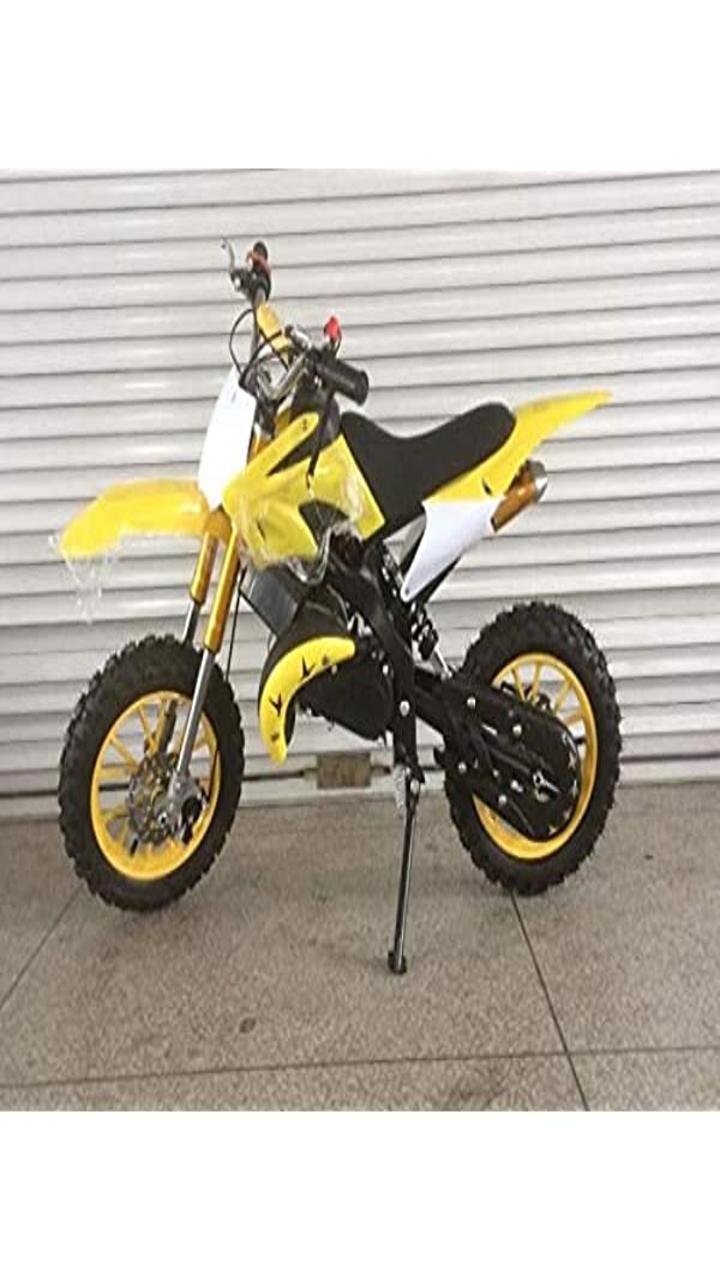motorcycle: (32, 231, 668, 989)
